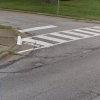Crosswalk: (18, 27, 100, 61)
